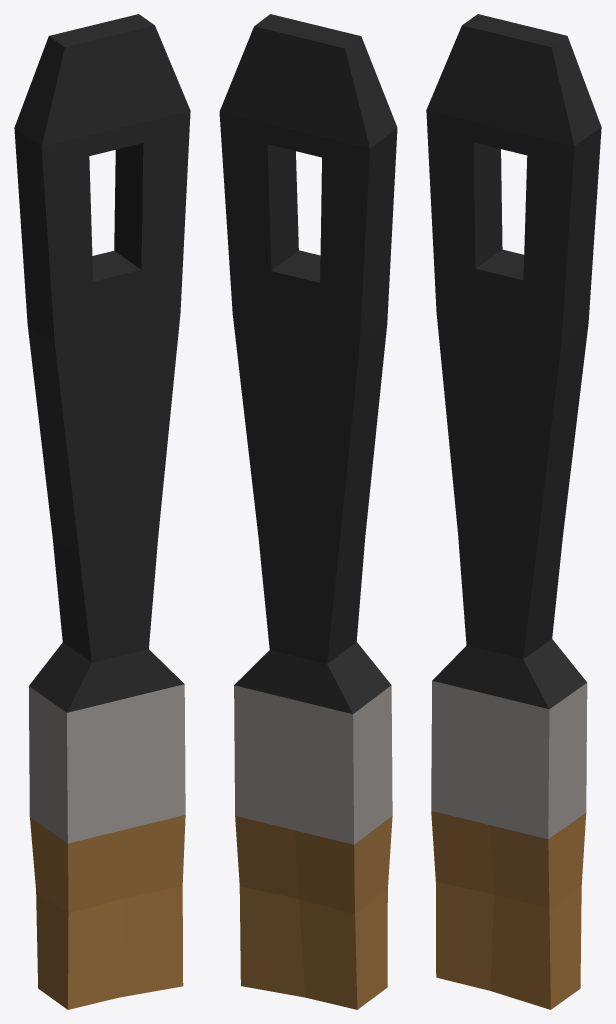
Rendered from tools-brush-straight-thin.glb.
3 renders of one model, left to right at view 1: azimuth 30°, elevation 25°; view 2: azimuth 150°, elevation 25°; view 3: azimuth 330°, elevation 25°, orthographic.
Visible parts, largest first — view 1: brush-straight-thin; view 2: brush-straight-thin; view 3: brush-straight-thin.
Boxes of the visible parts, x1,y1,x2,y2 form: brush-straight-thin: (14, 14, 190, 1009); brush-straight-thin: (219, 14, 397, 1009); brush-straight-thin: (426, 14, 601, 1009).
Bounding box in the file's own units: 0.0379 × 0.2322 × 0.0172.
